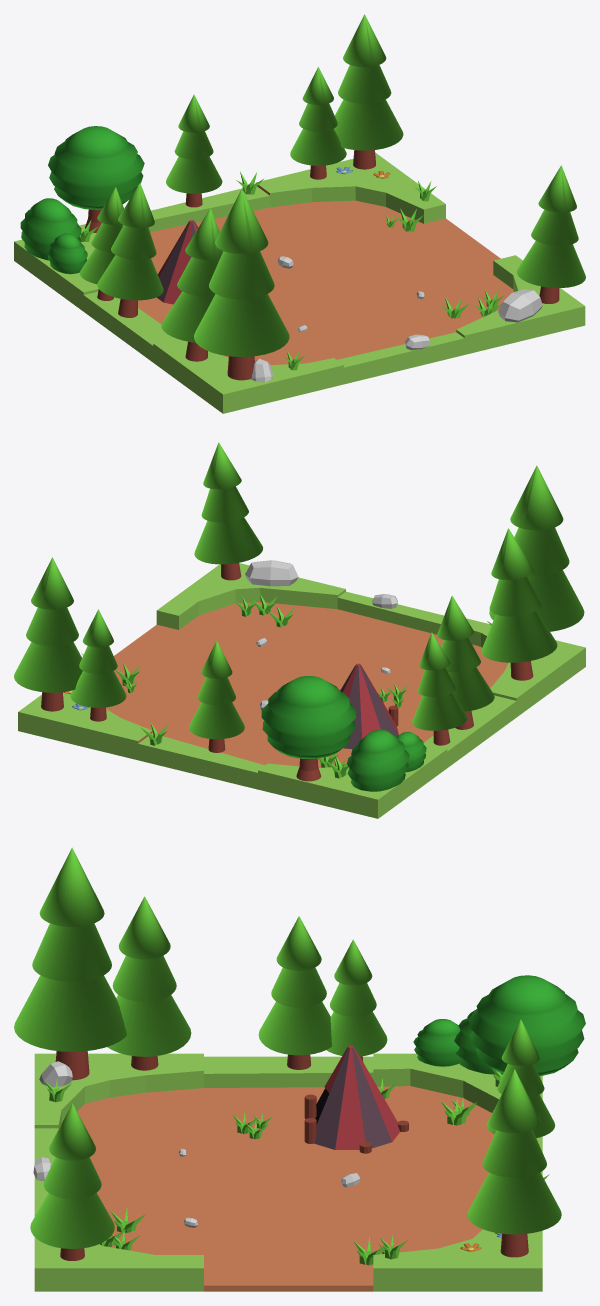
Rendered from jungle level set - 1 Way (4).fbx.
The picture shows the model from 3 angles, top to bottom: view 1: azimuth 30°, elevation 25°; view 2: azimuth 150°, elevation 25°; view 3: azimuth 270°, elevation 25°; orthographic projection. The views are drawn at different scales.
Parts seen in each view (by area): view 1: land_platform_001, tree_006, tree_004, tree_001, tree_000, tree_007, tree_005, tree_008, tree_002, bush_003, tree_003, camp (+2 smaller); view 2: land_platform_001, tree_004, tree_005, tree_001, tree_006, tree_000, tree_007, tree_002, tree_008, tree_003, bush_003, camp (+2 smaller); view 3: land_platform_001, tree_006, tree_001, tree_005, tree_004, tree_000, tree_007, camp, tree_003, tree_008, bush_001, bush_003 (+1 smaller).
Boxes of the visible parts, x1=… form: land_platform_001: x1=14, y1=153, x2=585, y2=413; tree_006: x1=194, y1=189, x2=289, y2=380; tree_004: x1=48, y1=126, x2=144, y2=232; tree_001: x1=334, y1=14, x2=403, y2=169; tree_000: x1=516, y1=165, x2=585, y2=303; tree_007: x1=97, y1=183, x2=163, y2=317; tree_005: x1=161, y1=208, x2=223, y2=361; tree_008: x1=166, y1=94, x2=222, y2=207; tree_002: x1=290, y1=67, x2=346, y2=179; bush_003: x1=20, y1=198, x2=81, y2=260; tree_003: x1=79, y1=187, x2=123, y2=300; camp: x1=157, y1=220, x2=198, y2=304; land_platform_001: x1=18, y1=563, x2=585, y2=818; tree_004: x1=261, y1=676, x2=356, y2=781; tree_005: x1=481, y1=528, x2=557, y2=680; tree_001: x1=14, y1=557, x2=82, y2=711; tree_006: x1=489, y1=465, x2=584, y2=631; tree_000: x1=194, y1=442, x2=262, y2=580; tree_007: x1=437, y1=595, x2=494, y2=729; tree_002: x1=70, y1=609, x2=126, y2=721; tree_008: x1=189, y1=640, x2=244, y2=752; tree_003: x1=412, y1=632, x2=467, y2=745; bush_003: x1=347, y1=729, x2=409, y2=791; camp: x1=340, y1=663, x2=398, y2=749; land_platform_001: x1=34, y1=1053, x2=542, y2=1291; tree_006: x1=14, y1=847, x2=126, y2=1080; tree_001: x1=467, y1=1069, x2=561, y2=1257; tree_005: x1=107, y1=896, x2=191, y2=1070; tree_004: x1=468, y1=975, x2=585, y2=1076; tree_000: x1=30, y1=1103, x2=114, y2=1260; tree_007: x1=258, y1=916, x2=331, y2=1069; camp: x1=304, y1=1045, x2=408, y2=1153; tree_003: x1=326, y1=939, x2=387, y2=1061; tree_008: x1=486, y1=1019, x2=555, y2=1137; bush_001: x1=413, y1=1019, x2=461, y2=1066; bush_003: x1=454, y1=1009, x2=502, y2=1074.
Bounding box in the file's own units: 16.19 × 8.27 × 17.09.
